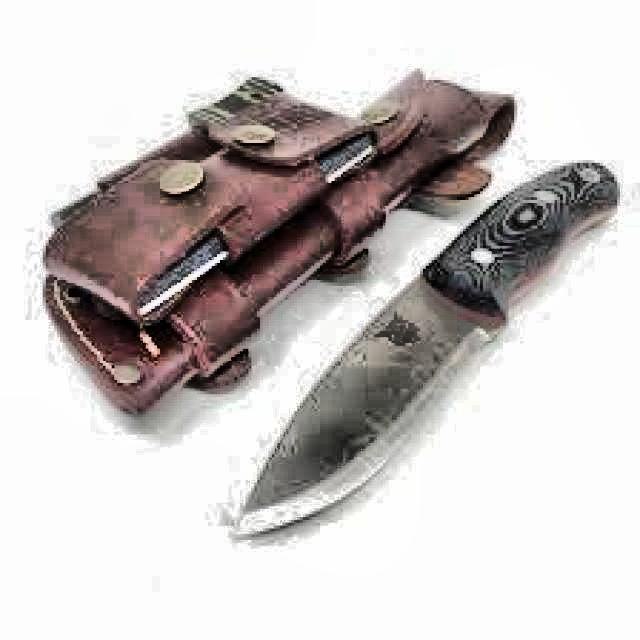knife: (209, 152, 625, 557)
